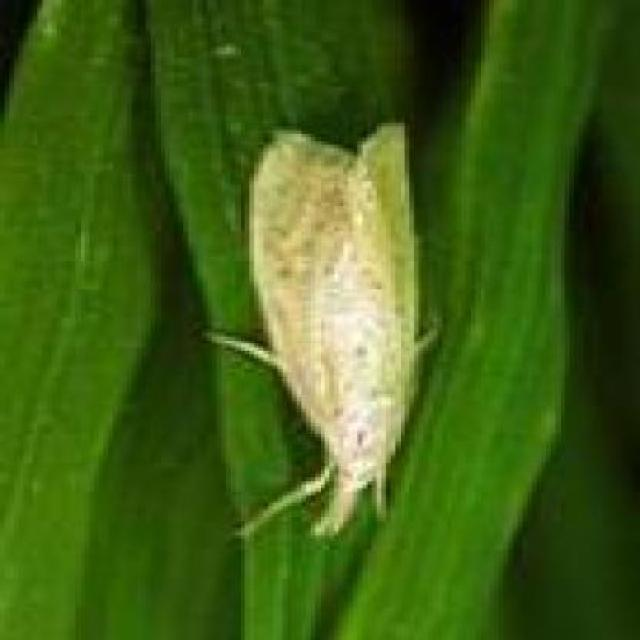stem-borer: (198, 121, 444, 542)
